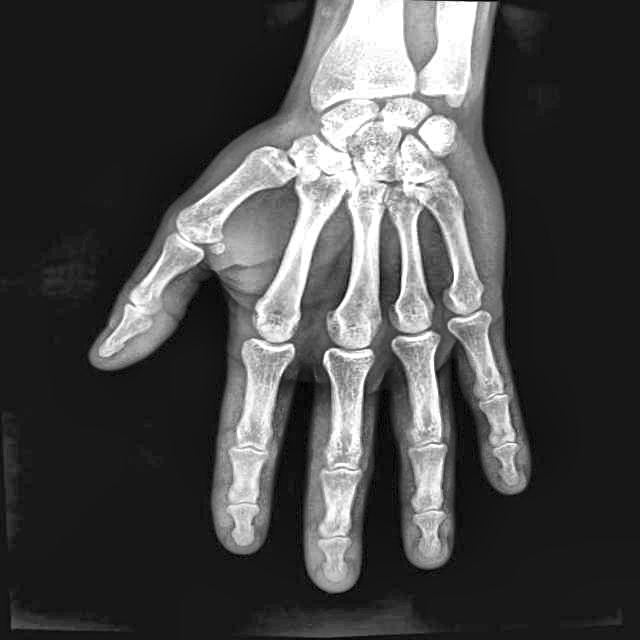Healthy: (148, 48, 561, 524)
